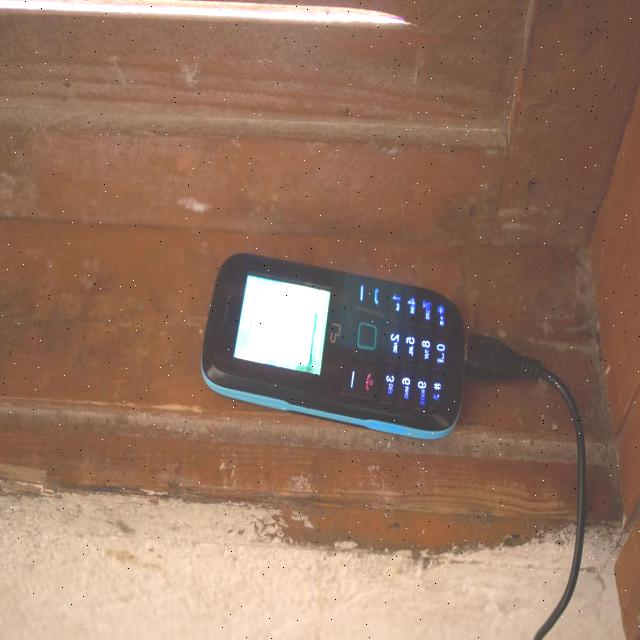Phone: (198, 248, 470, 442)
